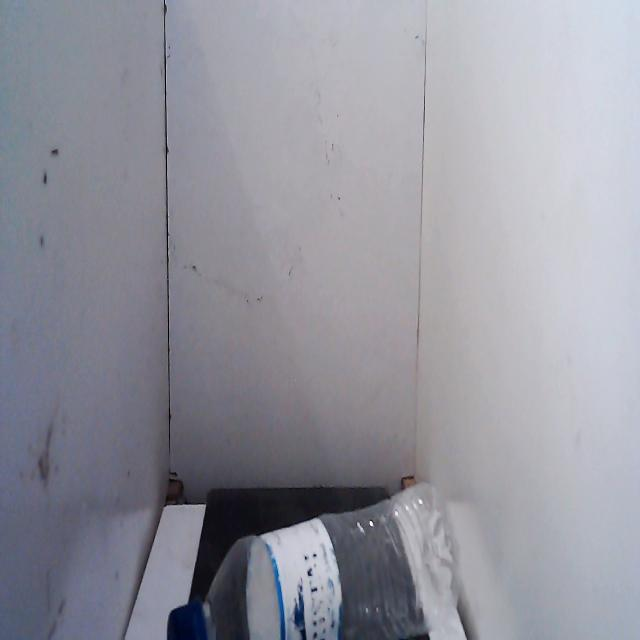plastic: (150, 474, 468, 640)
